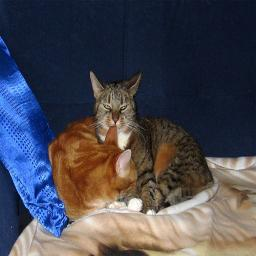catnose: (112, 113, 119, 125)
